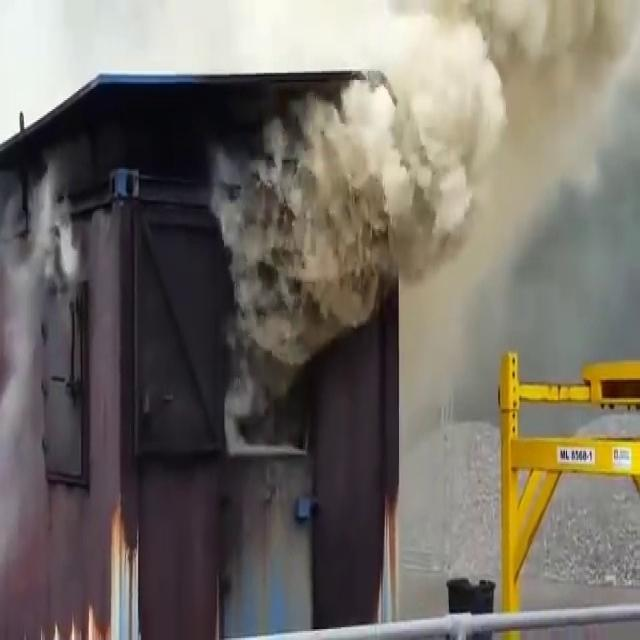Smoke: (240, 0, 628, 311)
